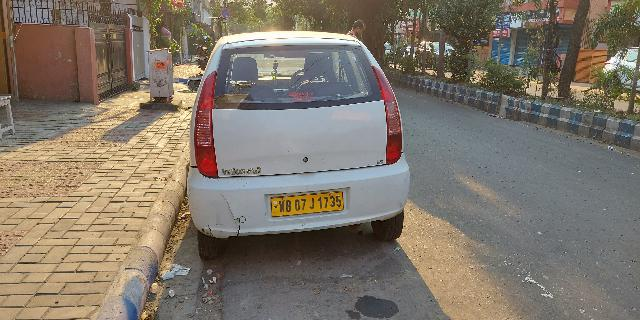Car: (184, 25, 412, 260)
